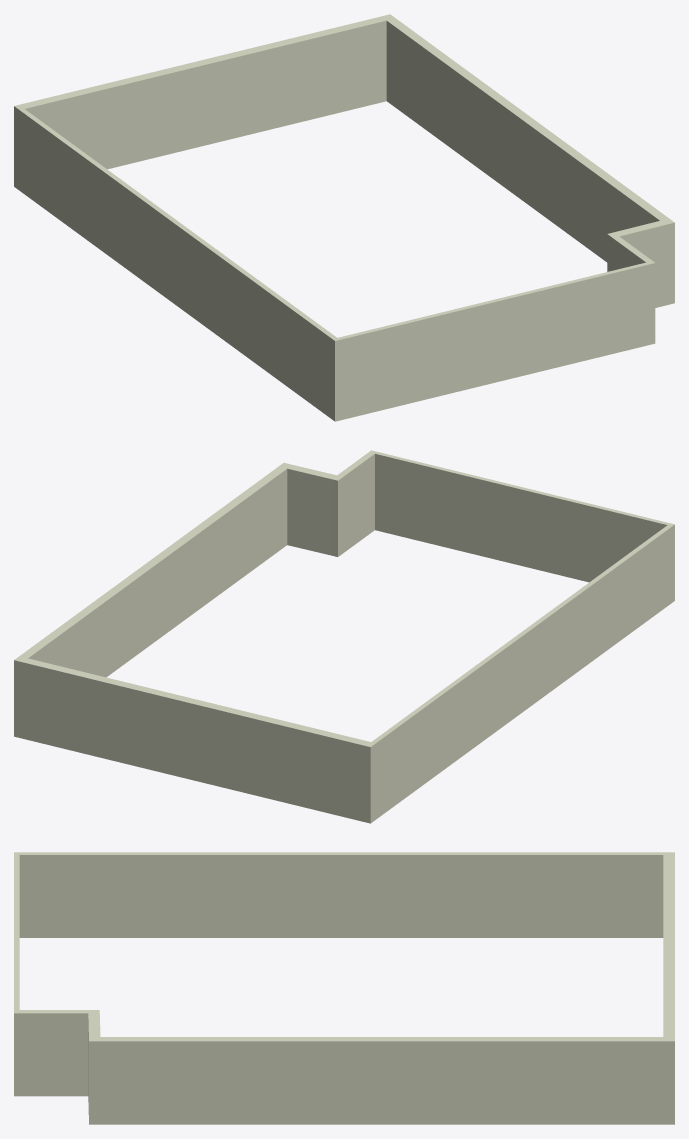
Rendered from wall.fbx.
3 views of the same model, one above another, from view 1: azimuth 30°, elevation 25°; view 2: azimuth 150°, elevation 25°; view 3: azimuth 270°, elevation 25° (orthographic). The views are drawn at different scales.
Parts seen in each view (by area): view 1: Wall1; view 2: Wall1; view 3: Wall1.
Part boxes in pixels (x1,y1,x2,y2): Wall1: (14, 14, 674, 421); Wall1: (14, 450, 674, 823); Wall1: (14, 852, 674, 1124).
Size of the model in its own units: 3028 by 620 by 4475.
